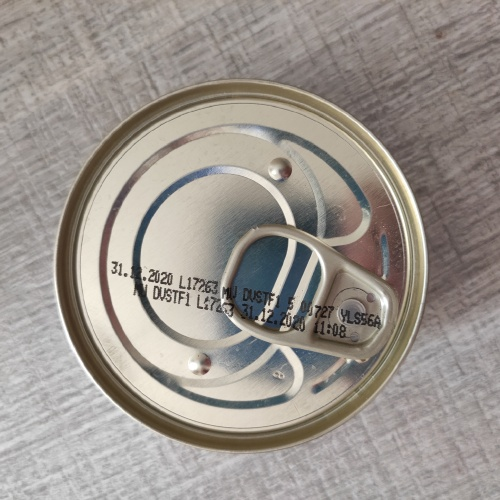tonno: (42, 72, 434, 459)
